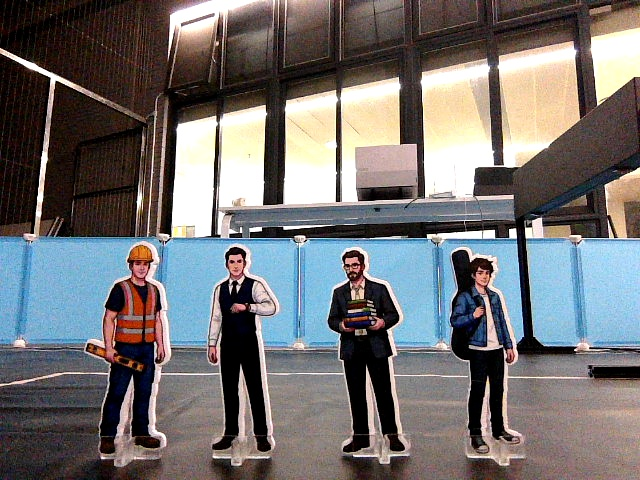community_person: (440, 239, 537, 470), (83, 234, 178, 468), (198, 234, 287, 471), (323, 239, 413, 470)
